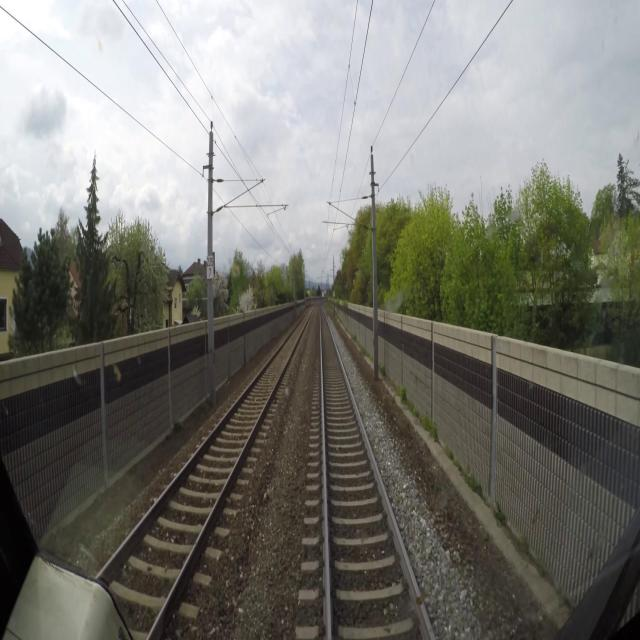rail-track: (102, 309, 311, 639), (321, 305, 430, 639)
